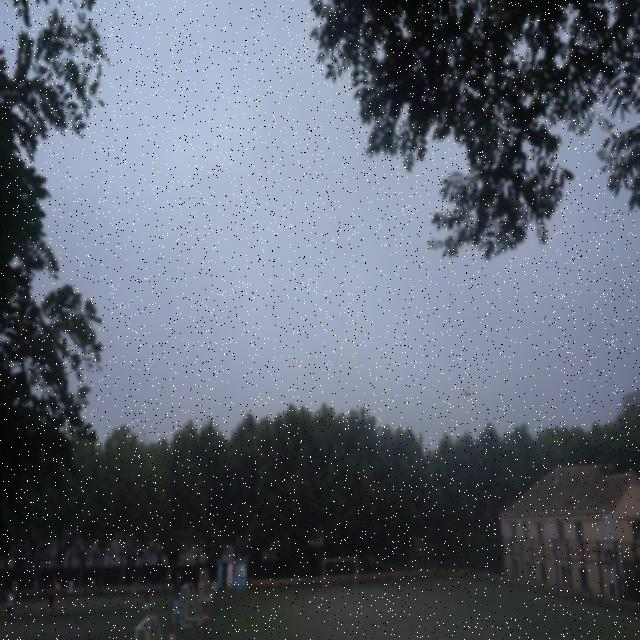UAV: (463, 390, 471, 398)
